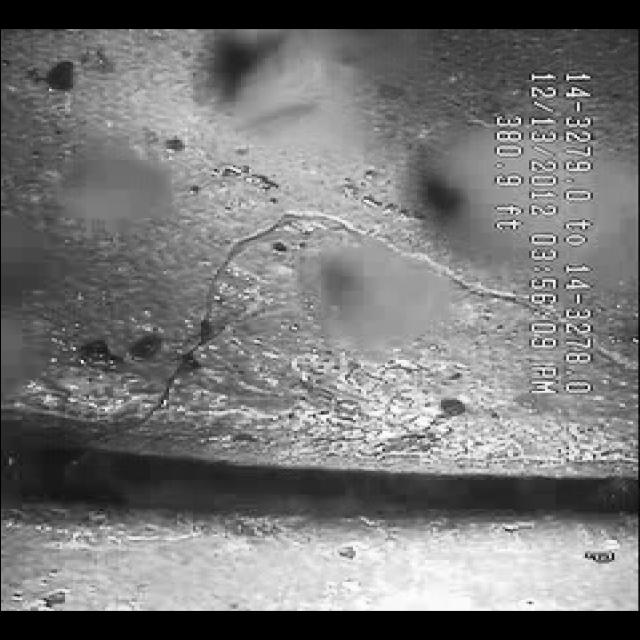Crack: (131, 200, 474, 418)
